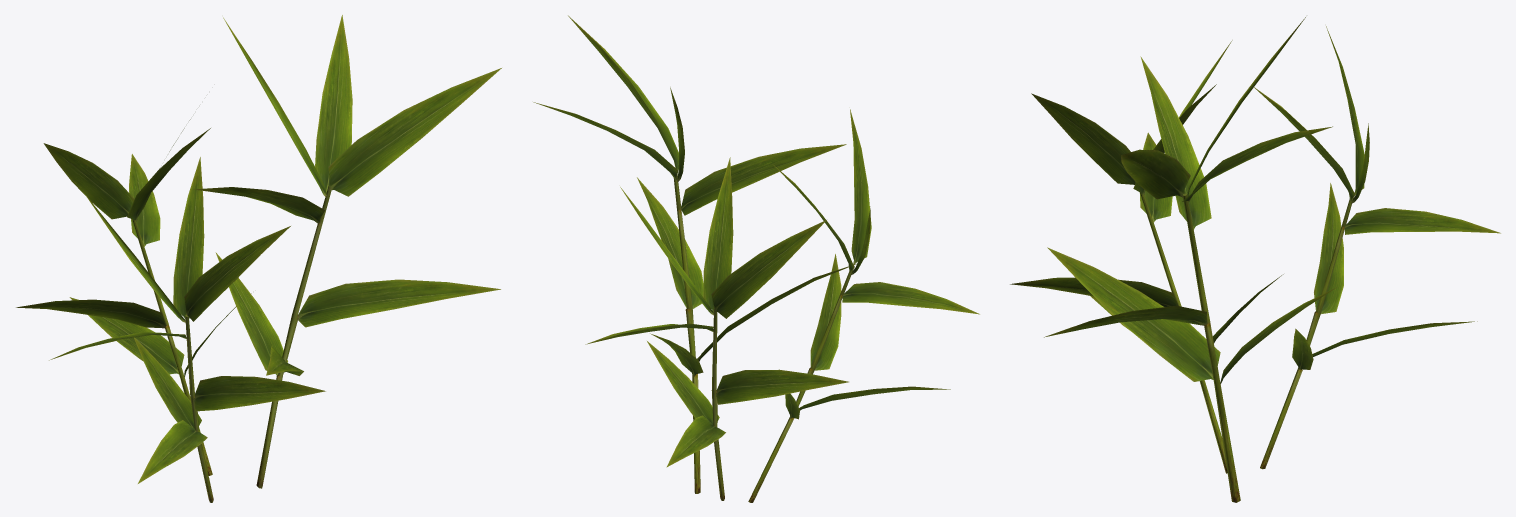
File: Switch Cane.FBX
3 renders of one model, left to right at view 1: azimuth 30°, elevation 25°; view 2: azimuth 150°, elevation 25°; view 3: azimuth 270°, elevation 25°, orthographic. The views are drawn at different scales.
Parts seen in each view (by area): view 1: Switch Cane, Switch Cane3, Switch Cane2; view 2: Switch Cane2, Switch Cane, Switch Cane3; view 3: Switch Cane, Switch Cane2, Switch Cane3.
Boxes of the visible parts, bbox=[...] form: Switch Cane: bbox=[193, 15, 501, 488]; Switch Cane3: bbox=[49, 157, 325, 502]; Switch Cane2: bbox=[16, 119, 251, 475]; Switch Cane2: bbox=[585, 157, 848, 500]; Switch Cane: bbox=[533, 15, 856, 493]; Switch Cane3: bbox=[748, 109, 979, 502]; Switch Cane: bbox=[1044, 17, 1336, 502]; Switch Cane2: bbox=[1254, 26, 1500, 469]; Switch Cane3: bbox=[1010, 40, 1283, 473].
Bounding box in the file's own units: 92.39 × 89.4 × 82.28.
